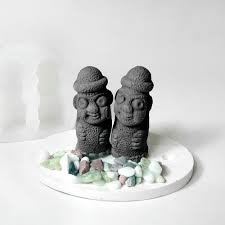Stone Statue: (60, 53, 116, 169), (112, 59, 156, 176)
